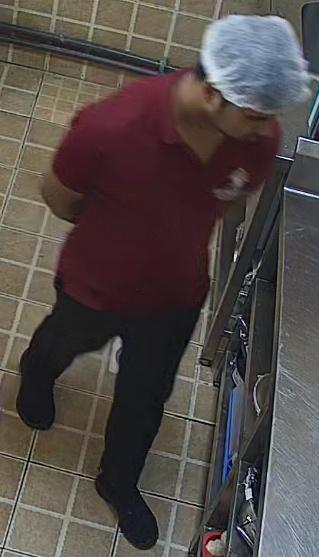no_apron: (57, 87, 287, 299)
